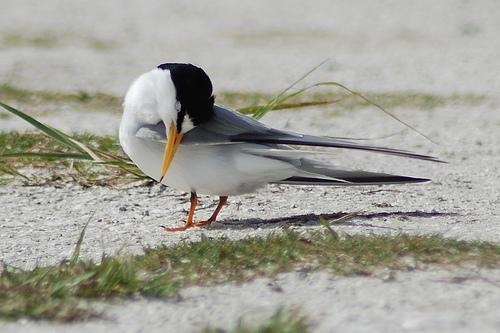bird: (118, 60, 442, 227)
